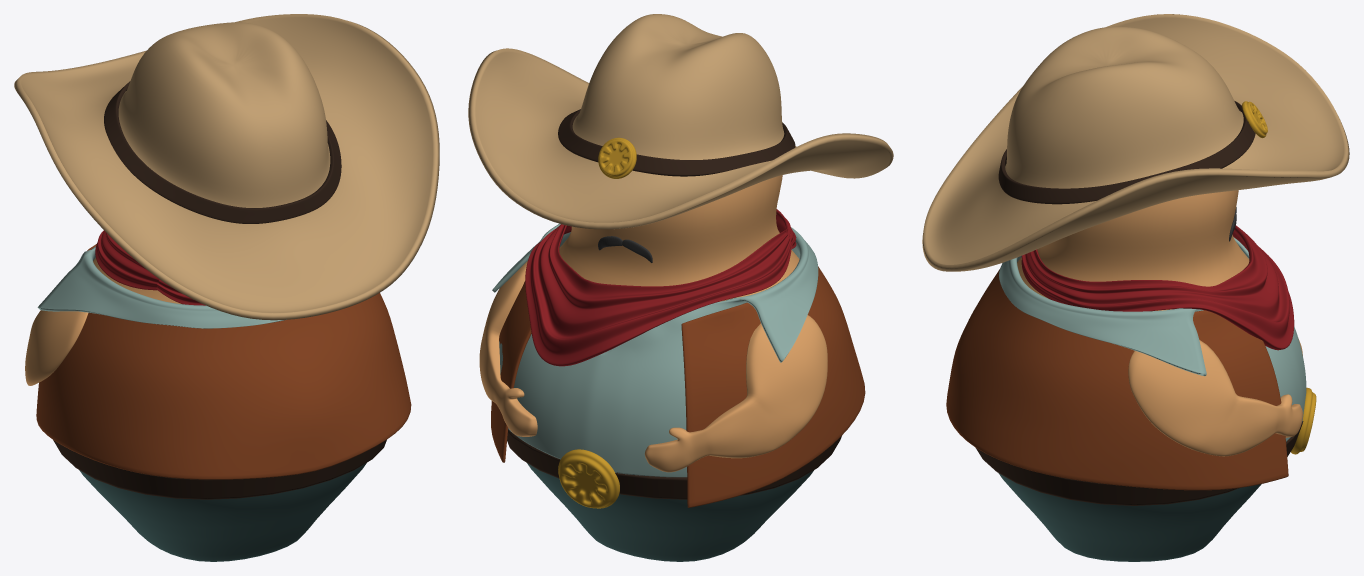
File: howdy.glb
The picture shows the model from 3 angles, left to right: view 1: azimuth 30°, elevation 25°; view 2: azimuth 150°, elevation 25°; view 3: azimuth 270°, elevation 25°; orthographic projection.
Visible parts, largest first — view 1: hat, vest, body, shirt, belt, hatBelt, arms, scarf; view 2: hat, shirt, vest, scarf, arms, head, body, hatBelt, belt, beltAccessory, hatAccessory, mustache; view 3: hat, vest, head, scarf, arms, body, shirt, belt, hatBelt, beltAccessory, hatAccessory.
Part boxes in pixels (x1,y1,x2,y2): hat: [14, 14, 439, 320]; vest: [36, 244, 411, 479]; body: [79, 463, 366, 561]; shirt: [37, 246, 286, 328]; belt: [53, 440, 386, 499]; hatBelt: [104, 81, 341, 223]; arms: [25, 310, 88, 385]; scarf: [95, 230, 205, 305]; hat: [468, 14, 893, 229]; shirt: [492, 223, 818, 477]; vest: [491, 266, 865, 507]; scarf: [525, 209, 796, 366]; arms: [479, 261, 827, 472]; head: [559, 175, 799, 301]; body: [527, 463, 813, 561]; hatBelt: [558, 109, 795, 176]; belt: [507, 429, 841, 499]; beltAccessory: [558, 449, 619, 508]; hatAccessory: [598, 137, 636, 178]; mustache: [598, 236, 652, 262]; hat: [922, 14, 1349, 271]; vest: [946, 237, 1288, 490]; head: [1017, 190, 1249, 310]; scarf: [1021, 225, 1294, 350]; arms: [1128, 339, 1302, 456]; body: [998, 473, 1261, 561]; shirt: [999, 237, 1306, 441]; belt: [976, 421, 1303, 505]; hatBelt: [998, 101, 1255, 204]; beltAccessory: [1291, 387, 1316, 454]; hatAccessory: [1242, 101, 1267, 138].
Size of the model in its own units: 3.18 by 4.1 by 3.29.
